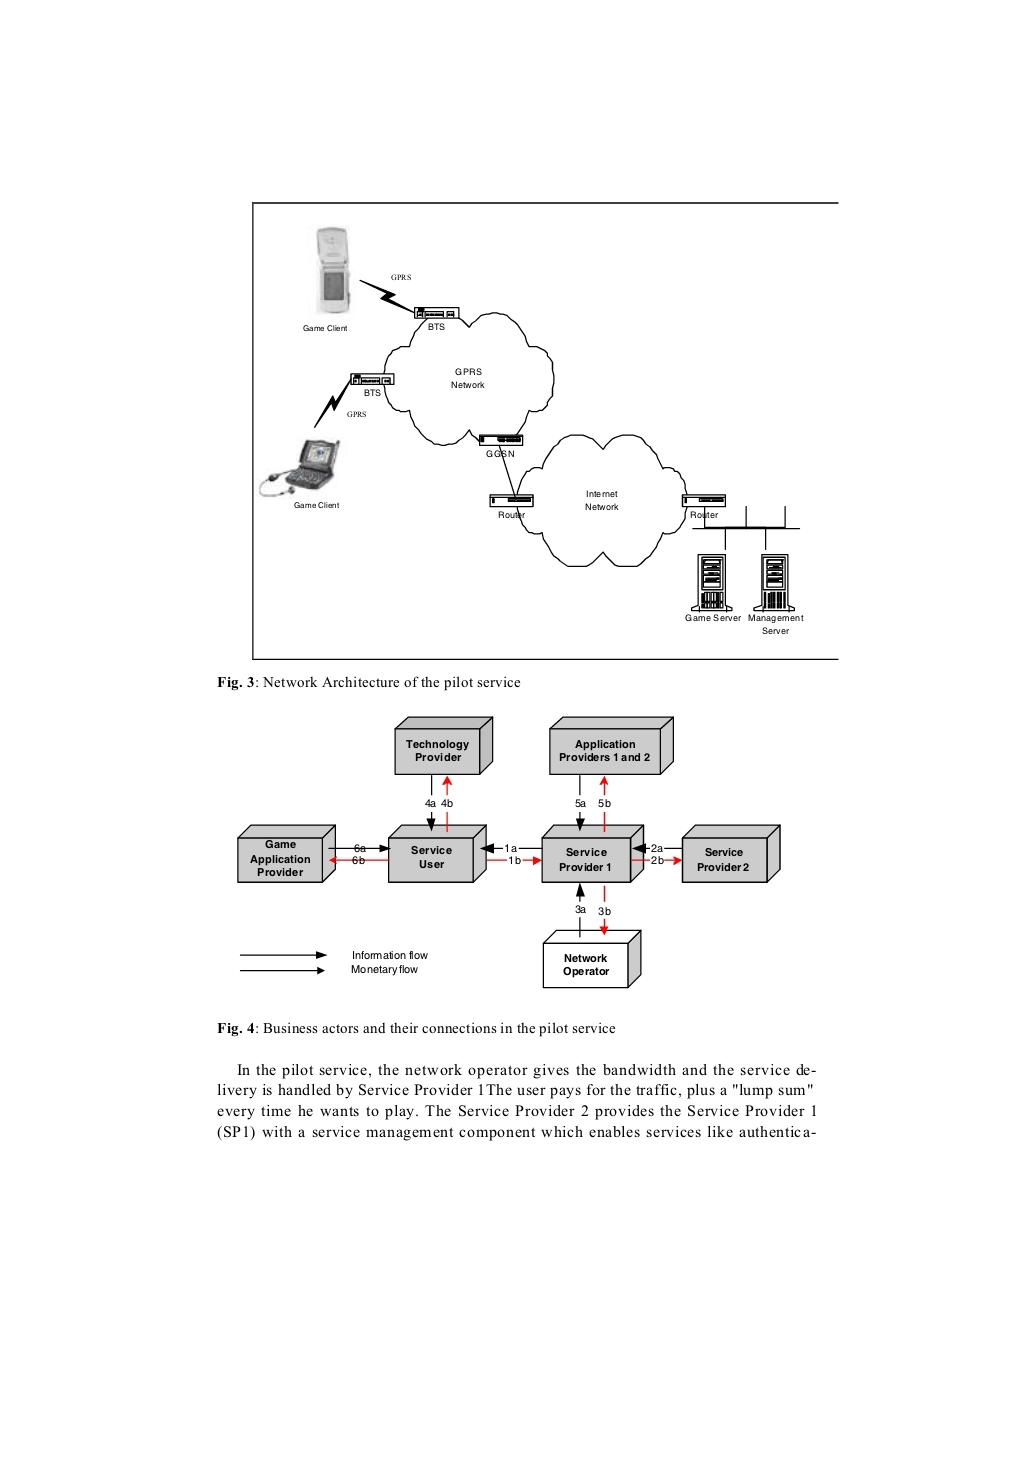figure: (252, 201, 838, 660), (237, 716, 780, 988)
